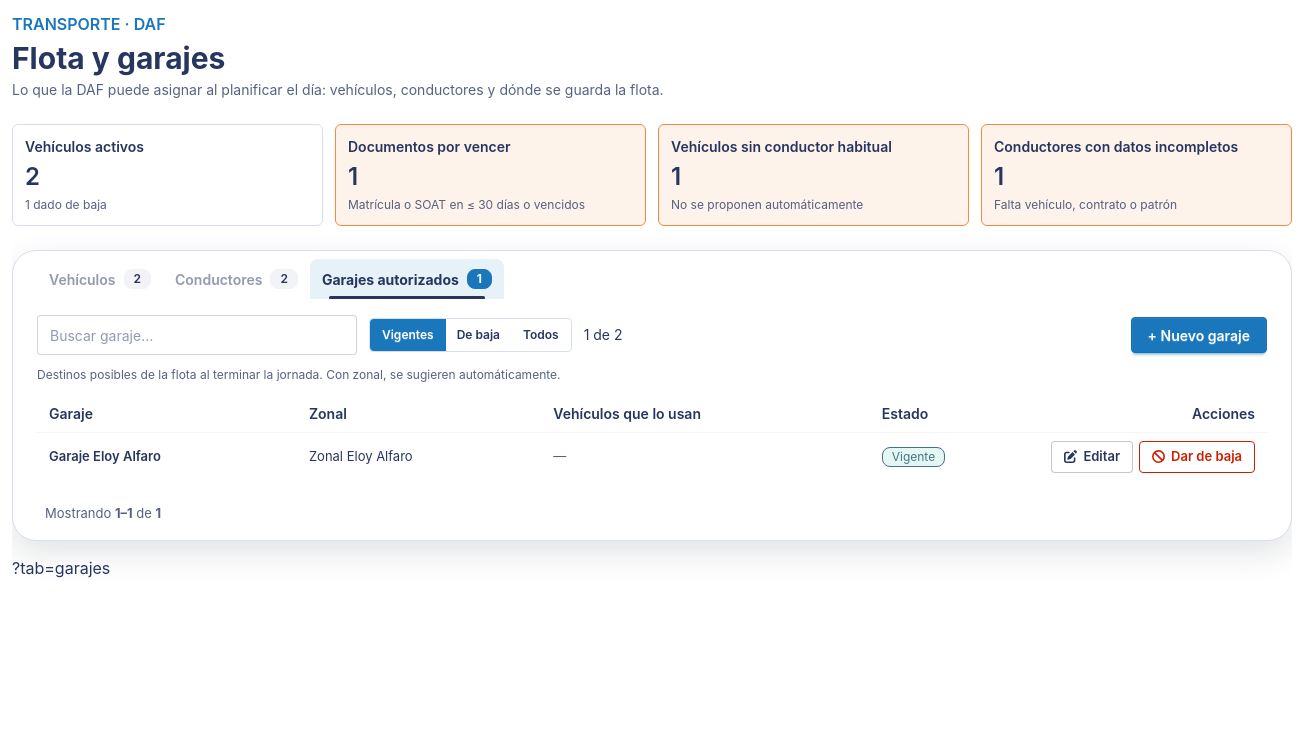
it: pestañas y filtro › la pestaña vive en la URL: se abre desde ella y cambiarla la reescribe
This screenshot has width=1304, height=732.
Check: the text "Garaje Eloy Alfaro" is shown, box [49,448,161,464]
Click the tab "Vehículos 2".
click(100, 279)  # box [37,259,163,299]
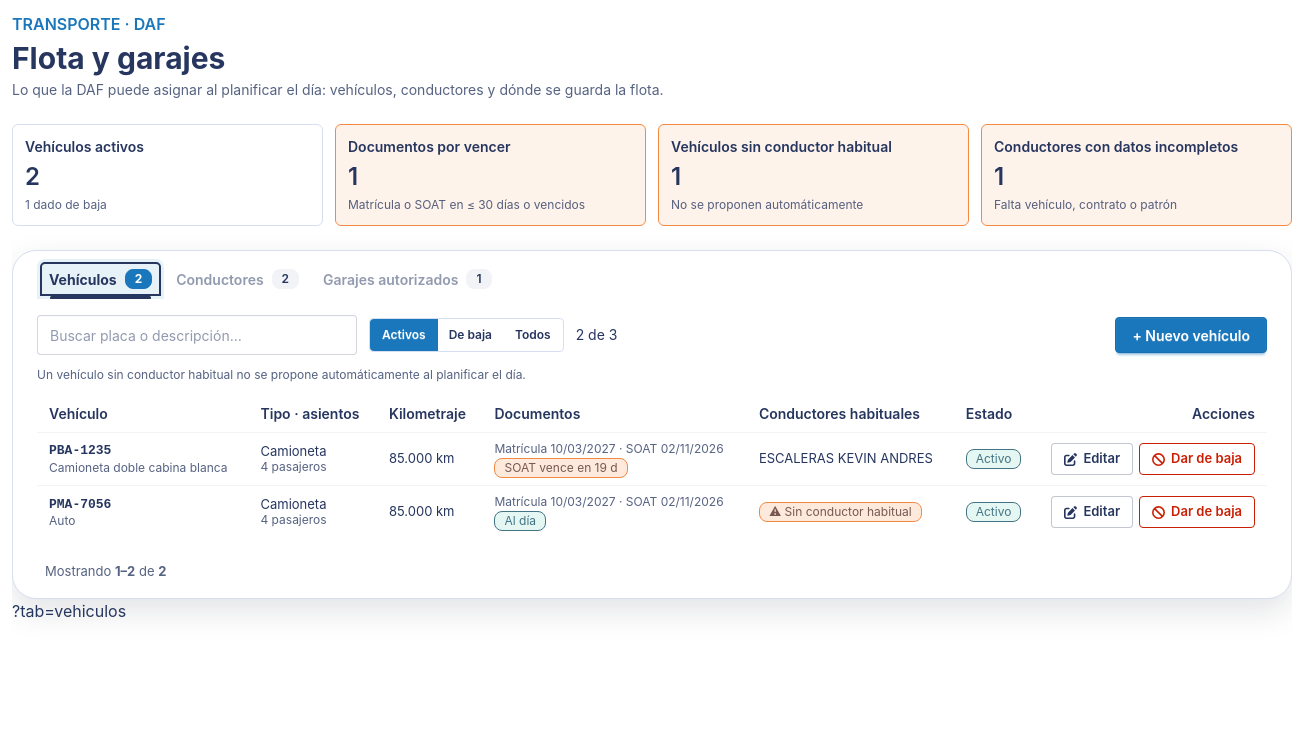
Check: the text with test id "url" shows "tab=vehiculos", box [12,601,126,621]
